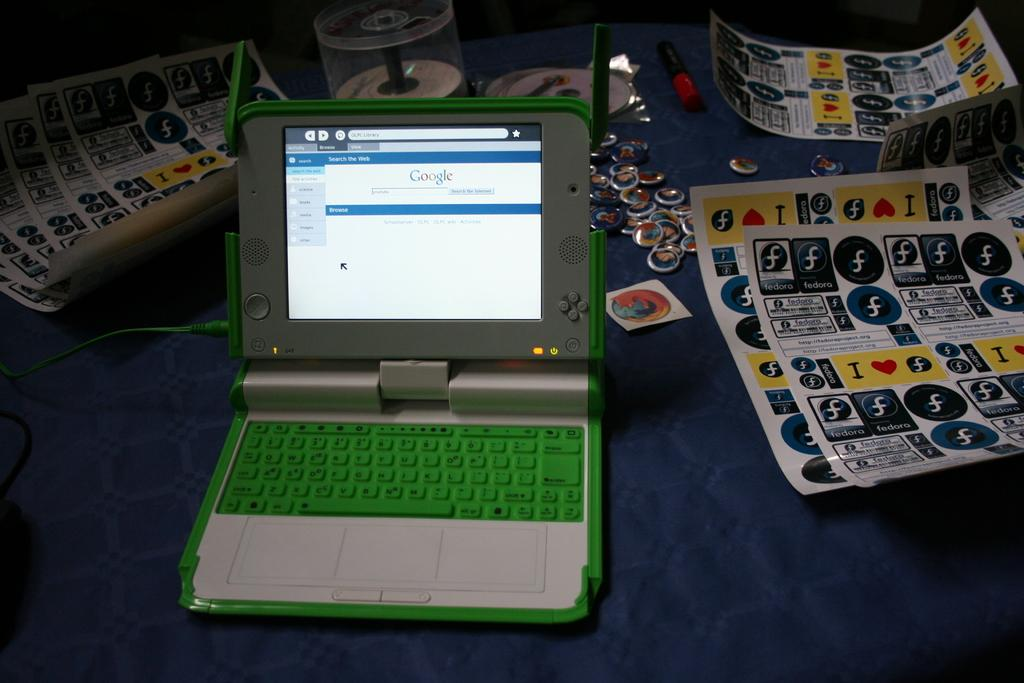Laptop: (179, 21, 609, 625)
